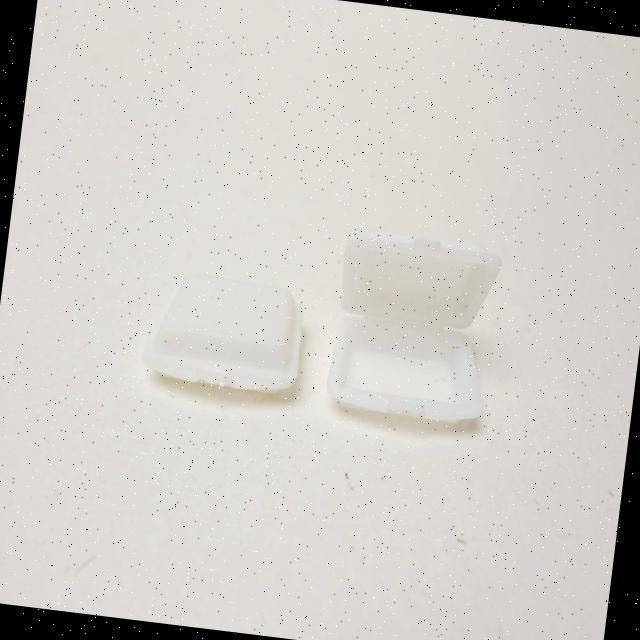styrofoam: (322, 223, 504, 428), (140, 266, 308, 398)
